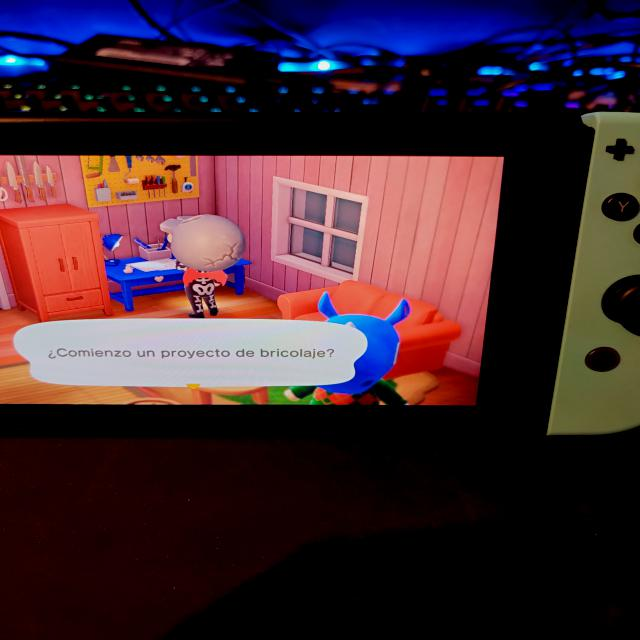text_bubble: (12, 317, 370, 389)
